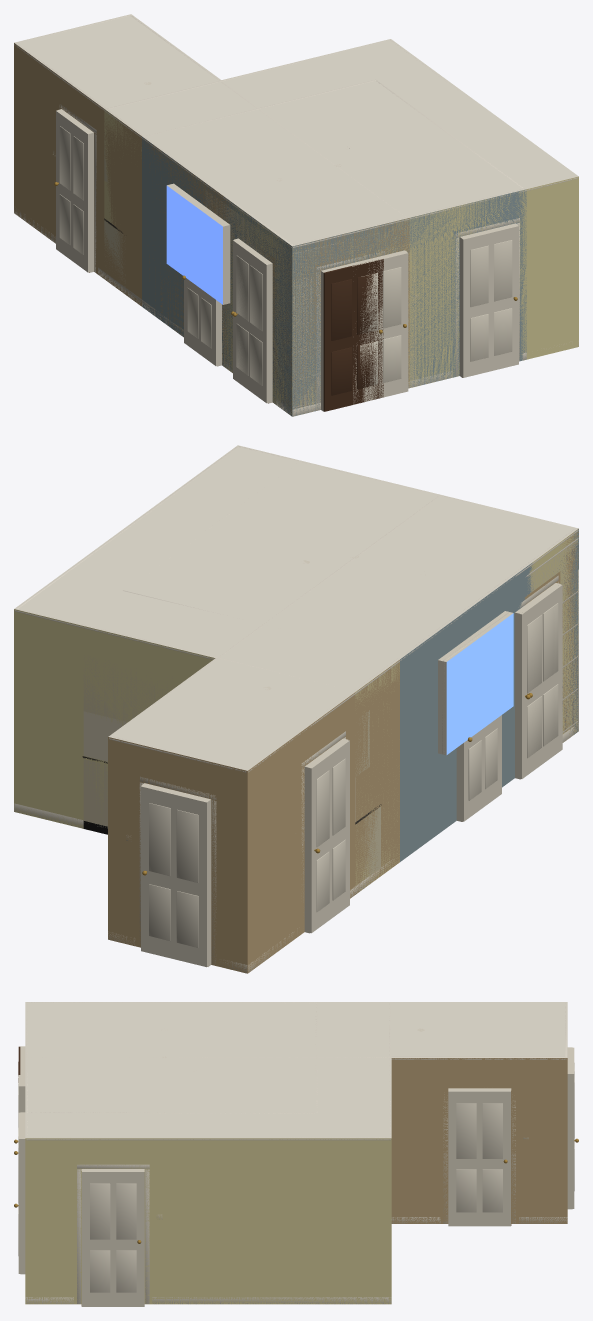
Rendered from house.glb.
The picture shows the model from 3 angles, top to bottom: view 1: azimuth 30°, elevation 25°; view 2: azimuth 150°, elevation 25°; view 3: azimuth 270°, elevation 25°; orthographic projection. The views are drawn at different scales.
Parts seen in each view (by area): view 1: kitchen_shell, bedroom_shell, hall_shell, hall_leaf_front, bedroom_leaf_nook, kitchen_leaf_pantry, hall_leaf_living, pantry_shell, bedroom_leaf_hall, hall_leaf_kitchen, hall_leaf_extra1, bedroom_frame_nook (+5 smaller); view 2: kitchen_shell, hall_shell, bedroom_shell, hall_leaf_bath, hall_leaf_living, hall_leaf_extra1, bedroom_leaf_hall, hall_leaf_kitchen, hall_veil_bath, pantry_shell, hall_frame_bath; view 3: kitchen_shell, hall_shell, bedroom_shell, hall_leaf_extra2, kitchen_leaf_hall, hall_veil_extra2, kitchen_veil_hall, kitchen_frame_hall, hall_frame_extra2, bedroom_leaf_nook, hall_leaf_bath.
Boxes of the visible parts, box(x1,y1,x2,y2) form: kitchen_shell: box(104, 39, 578, 415); bedroom_shell: box(142, 79, 526, 416); hall_shell: box(14, 14, 409, 416); hall_leaf_front: box(323, 259, 383, 411); bedroom_leaf_nook: box(462, 225, 518, 377); kitchen_leaf_pantry: box(352, 252, 408, 404); hall_leaf_living: box(54, 110, 89, 272); pantry_shell: box(205, 190, 415, 416); bedroom_leaf_hall: box(231, 240, 265, 401); hall_leaf_kitchen: box(182, 275, 217, 366); hall_leaf_extra1: box(233, 241, 268, 403); bedroom_frame_nook: box(455, 218, 519, 376); kitchen_shell: box(14, 445, 578, 892); hall_shell: box(108, 495, 578, 973); bedroom_shell: box(123, 460, 578, 861); hall_leaf_bath: box(141, 785, 207, 967); hall_leaf_living: box(310, 740, 349, 933); hall_leaf_extra1: box(524, 584, 562, 777); bedroom_leaf_hall: box(520, 586, 559, 778); hall_leaf_kitchen: box(462, 715, 501, 821); hall_veil_bath: box(137, 773, 218, 966); pantry_shell: box(525, 537, 578, 736); hall_frame_bath: box(139, 776, 216, 964); kitchen_shell: box(20, 1002, 391, 1306); hall_shell: box(20, 1002, 572, 1225); bedroom_shell: box(20, 1002, 318, 1274); hall_leaf_extra2: box(448, 1090, 510, 1226); kitchen_leaf_hall: box(82, 1171, 144, 1306); hall_veil_extra2: box(441, 1081, 518, 1223); kitchen_veil_hall: box(74, 1162, 151, 1304); kitchen_frame_hall: box(77, 1164, 149, 1303); hall_frame_extra2: box(443, 1094, 515, 1223); bedroom_leaf_nook: box(14, 1112, 20, 1273); hall_leaf_bath: box(572, 1047, 578, 1208).
Size of the model in its own units: 4.71 by 2.5 by 7.71.
